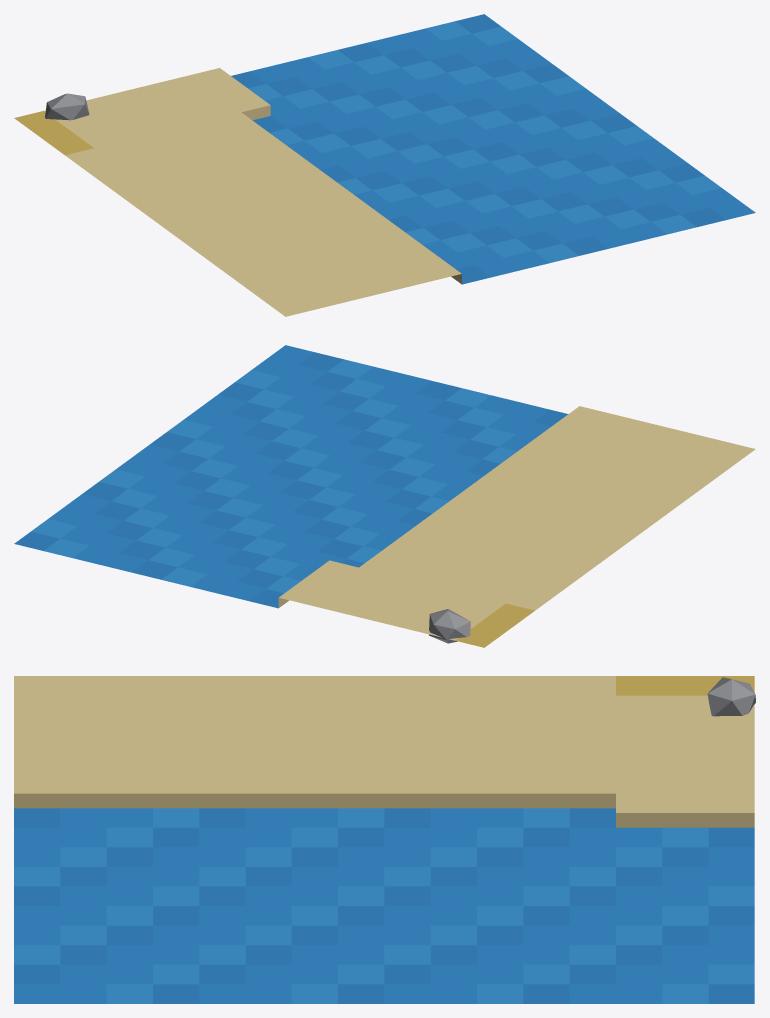
Rendered from chunk_11_8.glb.
3 renders of one model, top to bottom at view 1: azimuth 30°, elevation 25°; view 2: azimuth 150°, elevation 25°; view 3: azimuth 270°, elevation 25°, orthographic. The views are drawn at different scales.
Visible parts, largest first — view 1: chunk_11_8; view 2: chunk_11_8; view 3: chunk_11_8.
Boxes of the visible parts, x1,y1,x2,y2 form: chunk_11_8: (14,14,755,316); chunk_11_8: (14,345,755,647); chunk_11_8: (14,676,755,1003).
Size of the model in its own units: 16 by 1.02 by 16.03.
